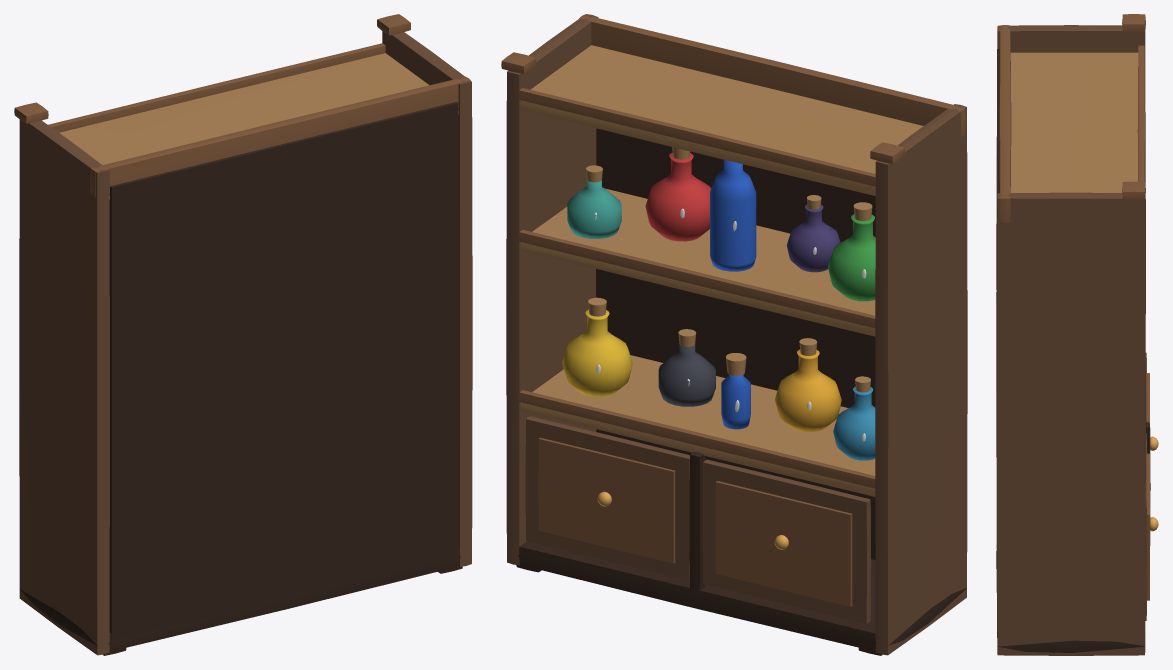
File: detail_potion_cabinet.glb
3 views of the same model, side by side, from view 1: azimuth 30°, elevation 25°; view 2: azimuth 150°, elevation 25°; view 3: azimuth 270°, elevation 25° (orthographic). The views are drawn at different scales.
Parts seen in each view (by area): view 1: wood; view 2: wood, object 17, object 11, object 19, object 5, object 13, object 9, object 21, object 3, object 15, object 7; view 3: wood.
Part boxes in pixels (box(x1,y1,x2,y2)): wood: box(14, 14, 472, 655); wood: box(501, 14, 967, 655); object 17: box(710, 159, 756, 271); object 11: box(562, 309, 632, 396); object 19: box(645, 152, 710, 241); object 5: box(775, 349, 841, 432); object 13: box(828, 214, 875, 301); object 9: box(658, 344, 715, 406); object 21: box(567, 179, 621, 238); object 3: box(833, 386, 875, 460); object 15: box(786, 204, 840, 272); object 7: box(721, 374, 750, 429); wood: box(996, 14, 1150, 655).
Size of the model in its own units: 1.3 by 1.6 by 0.5.
